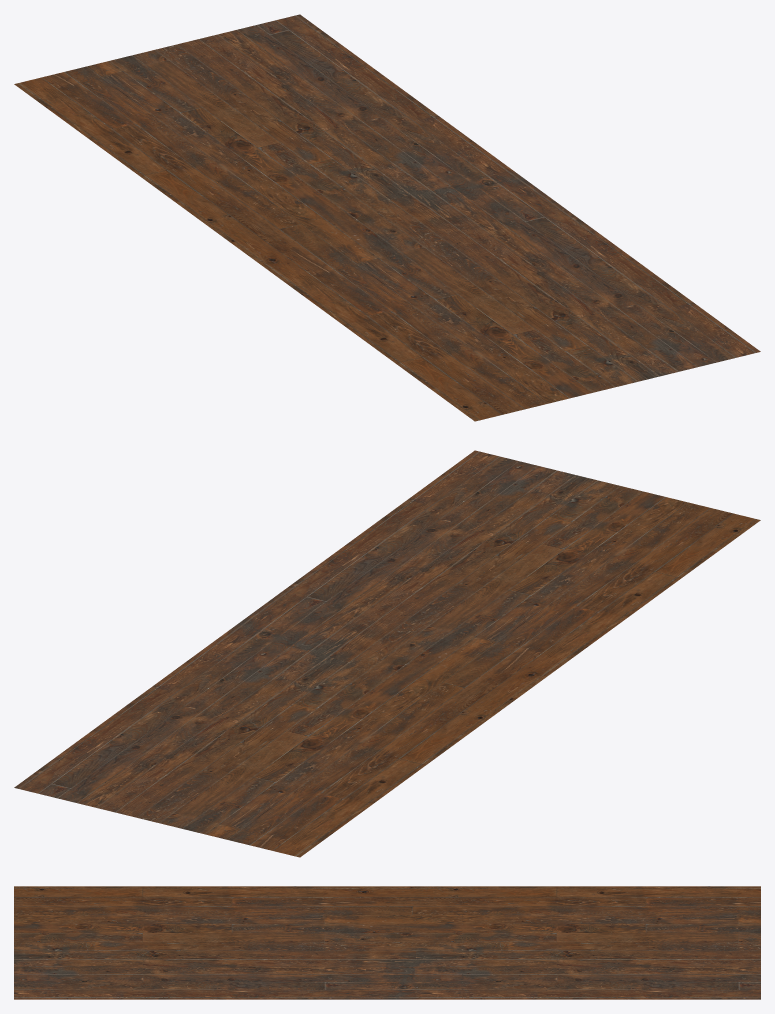
The model's file is FirtSceneFloor1.fbx.
3 renders of one model, top to bottom at view 1: azimuth 30°, elevation 25°; view 2: azimuth 150°, elevation 25°; view 3: azimuth 270°, elevation 25°, orthographic. The views are drawn at different scales.
Visible parts, largest first — view 1: Floor1; view 2: Floor1; view 3: Floor1.
Boxes of the visible parts, x1,y1,x2,y2 form: Floor1: [14, 14, 760, 421]; Floor1: [14, 450, 760, 857]; Floor1: [14, 886, 760, 999].
Bounding box in the file's own units: 54.14 × 0 × 151.
1 material, 1 textured.
